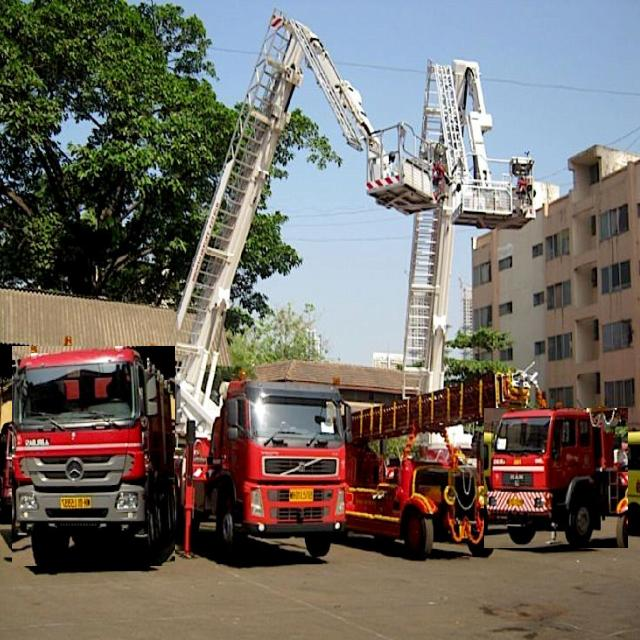emergency: (176, 13, 372, 557), (12, 347, 175, 566), (346, 373, 529, 558), (485, 408, 628, 548)
